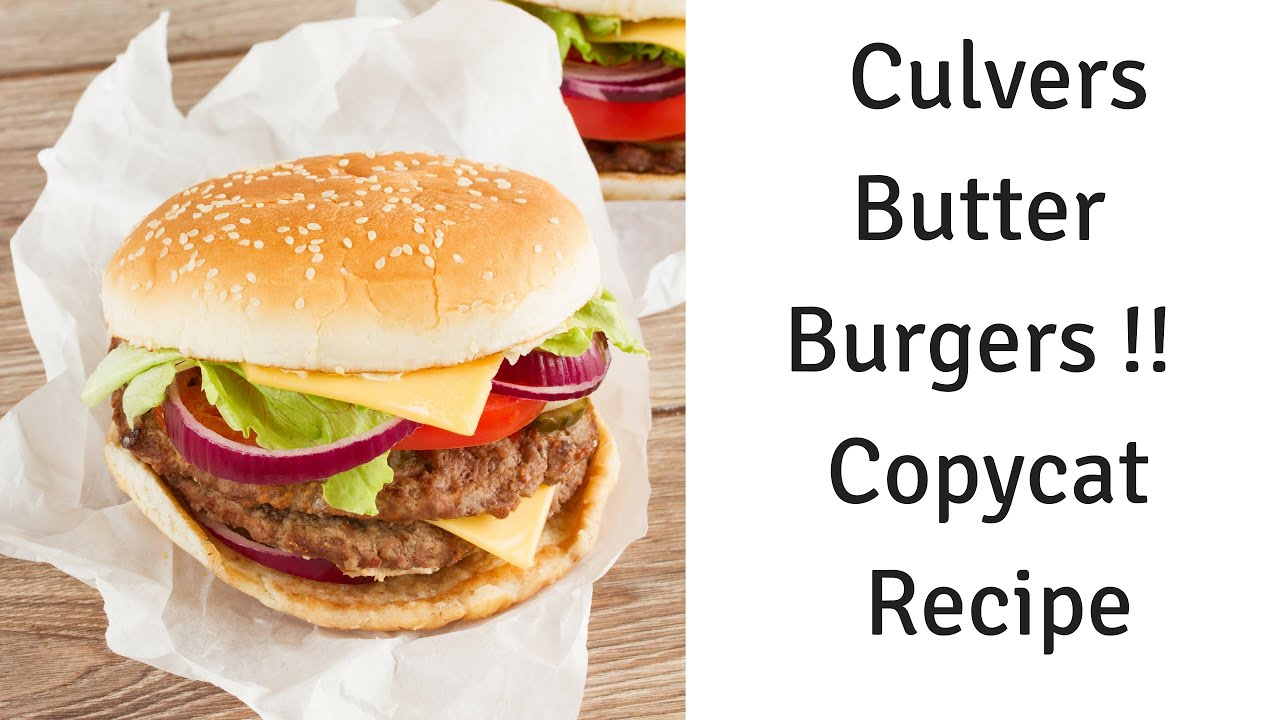hamburger_buns: (82, 163, 660, 403)
